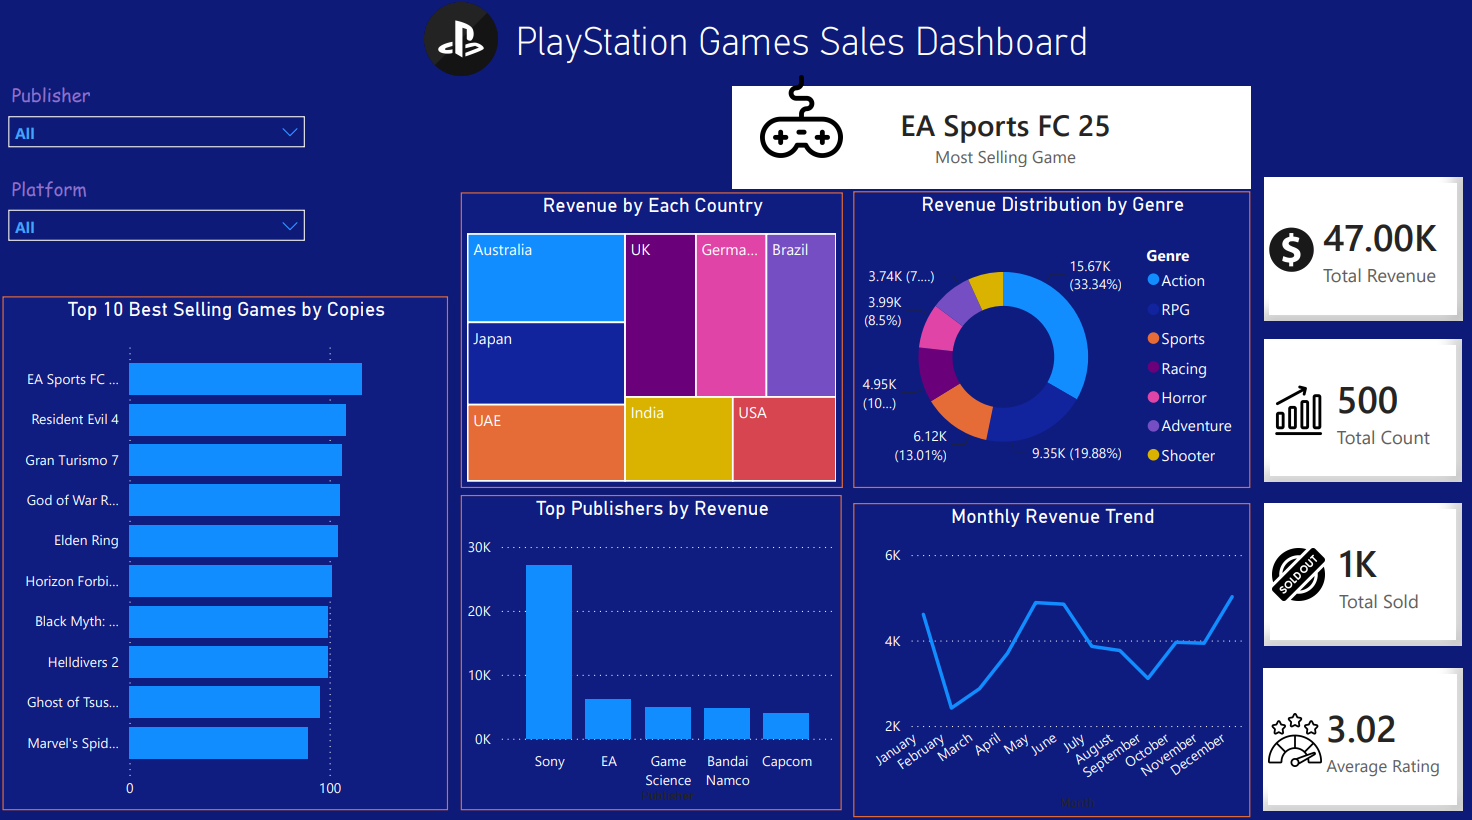

Layout of this report page (visuals, bound fields, positions):
{"tool":"powerbi","page":{"name":"Page 1","canvas":[1280,720],"ordinal":0},"visuals":[{"type":"cardVisual","fields":{"Data":["PlayStation_Orders.Total Revenue"]},"box":[1097.7,159.3,172.1,123.3],"z":0},{"type":"slicer","fields":{"Values":["PlayStation_Orders.Publisher"]},"box":[0,70.9,276.7,62.8],"z":1000},{"type":"cardVisual","fields":{"Data":["PlayStation_Orders.Total Count"]},"box":[1097.7,298.8,170.9,123.3],"z":2000},{"type":"cardVisual","fields":{"Data":["PlayStation_Orders.Total Sold"]},"box":[1097.7,440.7,170.9,123.3],"z":3000},{"type":"cardVisual","fields":{"Data":["PlayStation_Orders.Average Rating"]},"box":[1096.5,583.7,173.3,123.3],"z":4000},{"type":"donutChart","title":"Revenue Distribution by Genre","fields":{"Category":["PlayStation_Orders.Genre"],"Y":["Sum(PlayStation_Orders.Revenue ($))"]},"box":[741.9,171,344.2,257],"z":5000},{"type":"treemap","title":"Revenue by Each Country","fields":{"Group":["PlayStation_Orders.Country"],"Values":["Sum(PlayStation_Orders.Revenue ($))"]},"box":[401.9,172.1,331.6,256],"z":6000},{"type":"columnChart","title":"Top Publishers by Revenue","fields":{"Category":["PlayStation_Orders.Publisher"],"Y":["Sum(PlayStation_Orders.Revenue ($))"]},"box":[401.9,434.4,330.2,272.1],"z":7000},{"type":"lineChart","title":"Monthly Revenue Trend","fields":{"Category":["PlayStation_Orders.Purchase Date.Variation.Date Hierarchy.Month"],"Y":["Sum(PlayStation_Orders.Revenue ($))"]},"box":[741.9,440.7,344.2,272.1],"z":8000},{"type":"cardVisual","fields":{"Data":["PlayStation_Orders.Most Selling Game"]},"box":[637.2,80.2,448.8,88.4],"z":9000},{"type":"clusteredBarChart","title":"Top 10 Best Selling Games by Copies","fields":{"Category":["PlayStation_Orders.Game Name"],"Y":["Sum(PlayStation_Orders.Quantity)"]},"box":[4.7,261.6,386,445.4],"z":10000},{"type":"image","box":[1097.7,168.6,47.7,105.8],"z":11000},{"type":"image","box":[1086,329.1,82.6,61.6],"z":12000},{"type":"image","box":[1104.7,472.1,45.3,60.5],"z":13000},{"type":"image","box":[1037.2,623.3,174.4,45.3],"z":14000},{"type":"image","box":[623.3,70.9,147.7,70.9],"z":15000},{"type":"slicer","fields":{"Values":["PlayStation_Orders.Platform"]},"box":[0,152.3,276.7,62.8],"z":16000},{"type":"textbox","box":[197.7,17.4,998.8,53.5],"z":17000},{"type":"image","box":[343,8.1,118.6,62.8],"z":18000}]}

Visuals, with their boxes in screenshot pixels (x1, y1, x2, y2), scaled from the page's 1280x720 canvas onto the 1472x820 screenshot:
cardVisual - PlayStation_Orders.Total Revenue: (x1=1262, y1=181, x2=1460, y2=322)
slicer - PlayStation_Orders.Publisher: (x1=0, y1=81, x2=318, y2=152)
cardVisual - PlayStation_Orders.Total Count: (x1=1262, y1=340, x2=1459, y2=481)
cardVisual - PlayStation_Orders.Total Sold: (x1=1262, y1=502, x2=1459, y2=642)
cardVisual - PlayStation_Orders.Average Rating: (x1=1261, y1=665, x2=1460, y2=805)
"Revenue Distribution by Genre" donutChart: (x1=853, y1=195, x2=1249, y2=487)
"Revenue by Each Country" treemap: (x1=462, y1=196, x2=844, y2=488)
"Top Publishers by Revenue" columnChart: (x1=462, y1=495, x2=842, y2=805)
"Monthly Revenue Trend" lineChart: (x1=853, y1=502, x2=1249, y2=812)
cardVisual - PlayStation_Orders.Most Selling Game: (x1=733, y1=91, x2=1249, y2=192)
"Top 10 Best Selling Games by Copies" clusteredBarChart: (x1=5, y1=298, x2=449, y2=805)
image: (x1=1262, y1=192, x2=1317, y2=313)
image: (x1=1249, y1=375, x2=1344, y2=445)
image: (x1=1270, y1=538, x2=1322, y2=607)
image: (x1=1193, y1=710, x2=1393, y2=761)
image: (x1=717, y1=81, x2=887, y2=161)
slicer - PlayStation_Orders.Platform: (x1=0, y1=173, x2=318, y2=245)
textbox: (x1=227, y1=20, x2=1376, y2=81)
image: (x1=394, y1=9, x2=531, y2=81)
